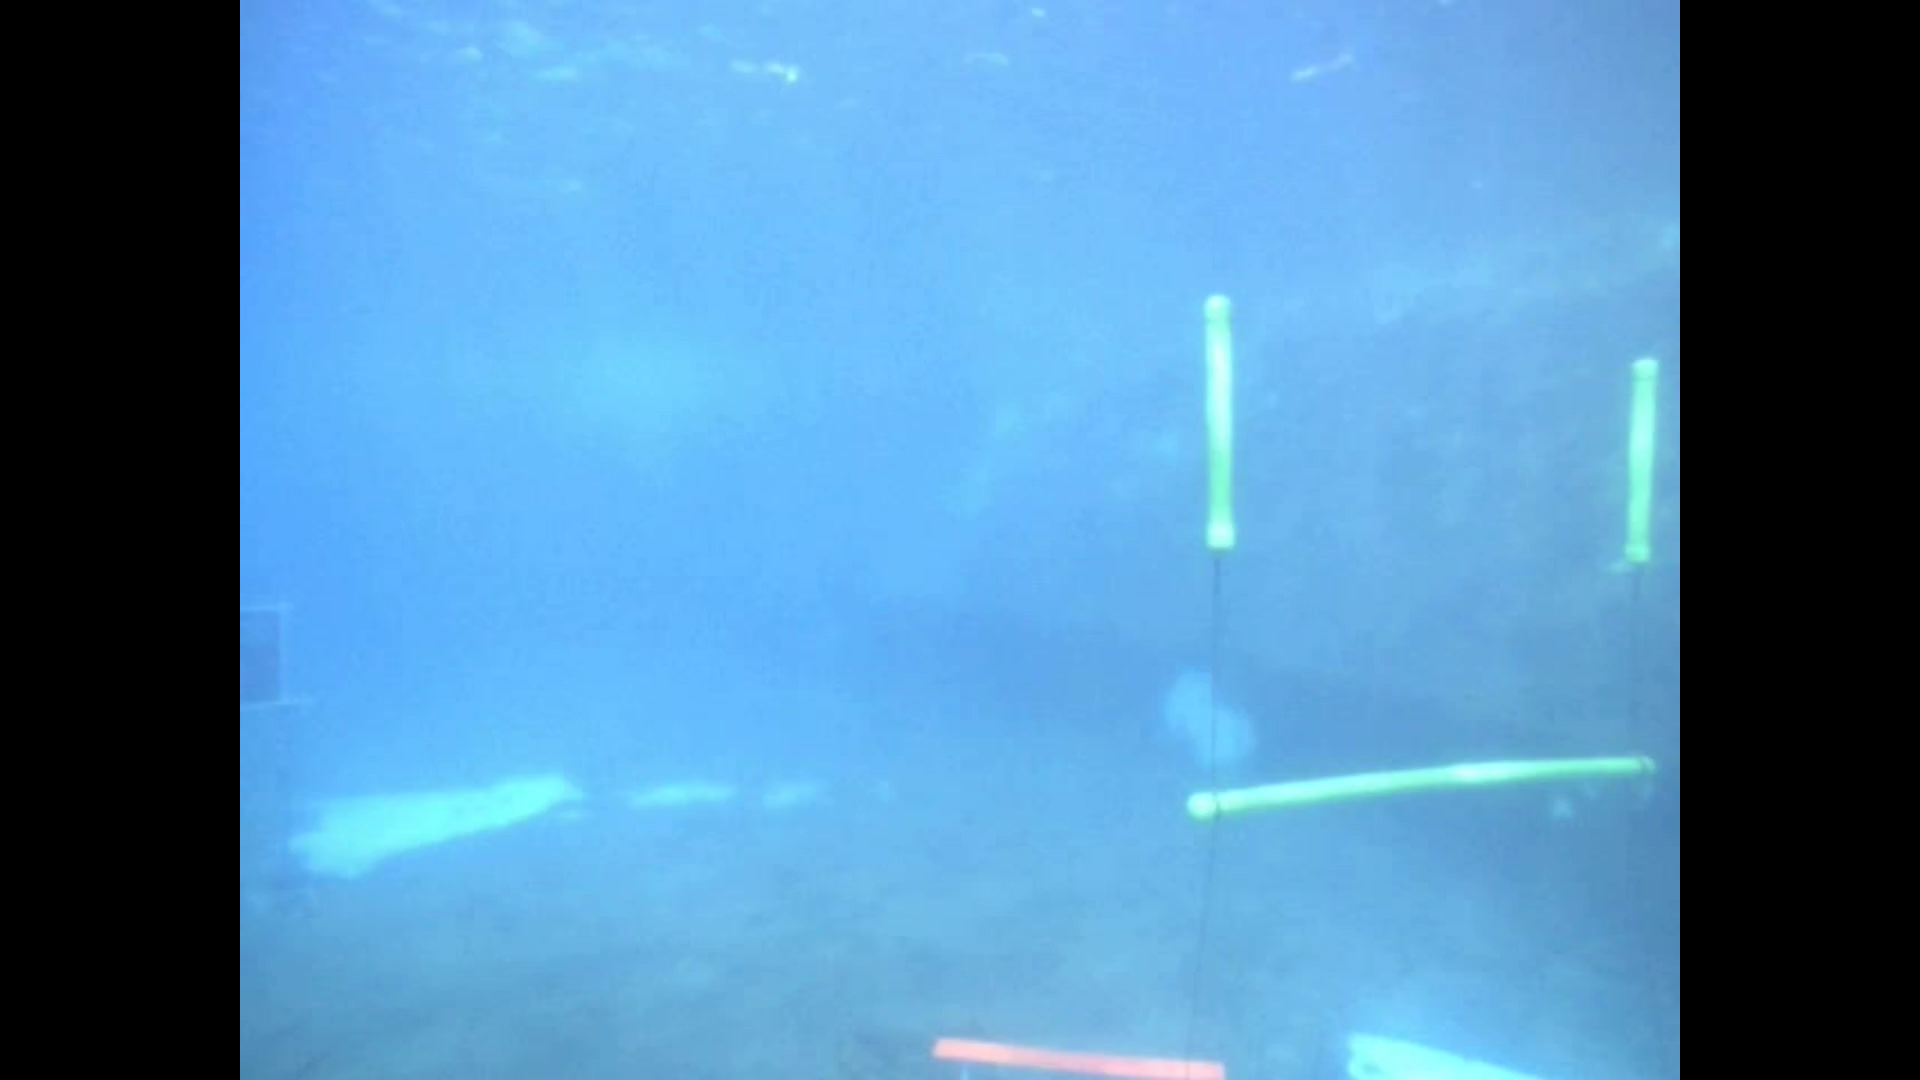gate: (1183, 284, 1662, 827)
